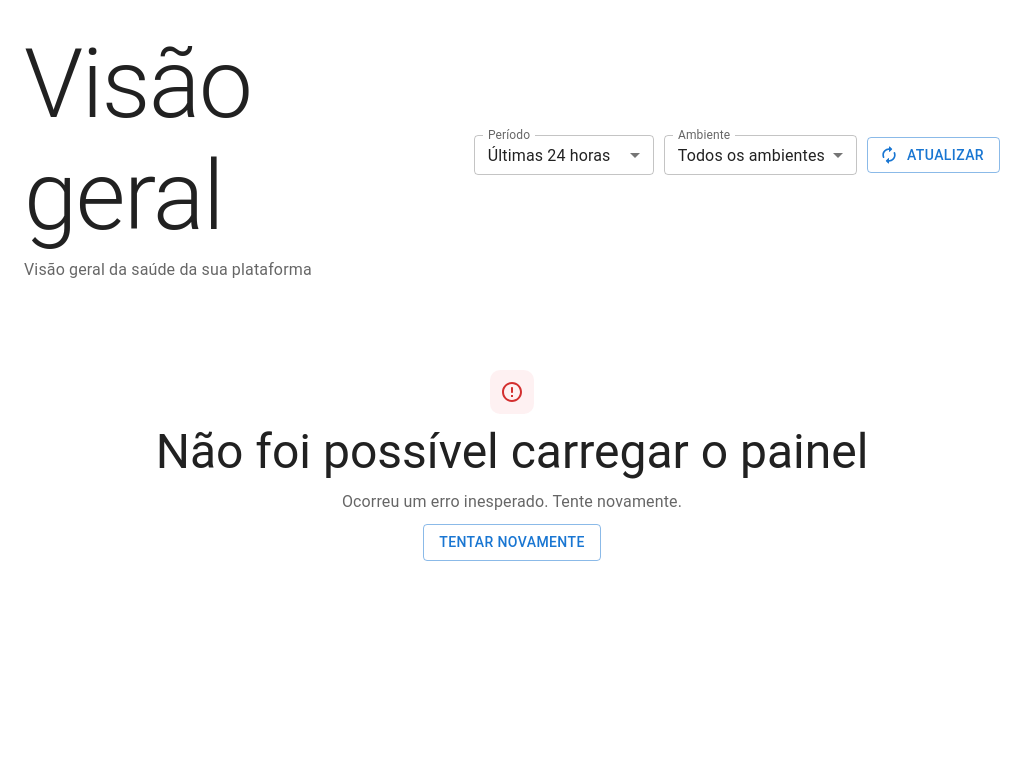
Visão geral operacional › encerra o carregamento com erro e permite tentar novamente
Expected: the heading "Não foi possível carregar o painel" is shown, [156, 424, 868, 480]
Click the button "Tentar novamente" at (512, 542), box [423, 524, 601, 561]
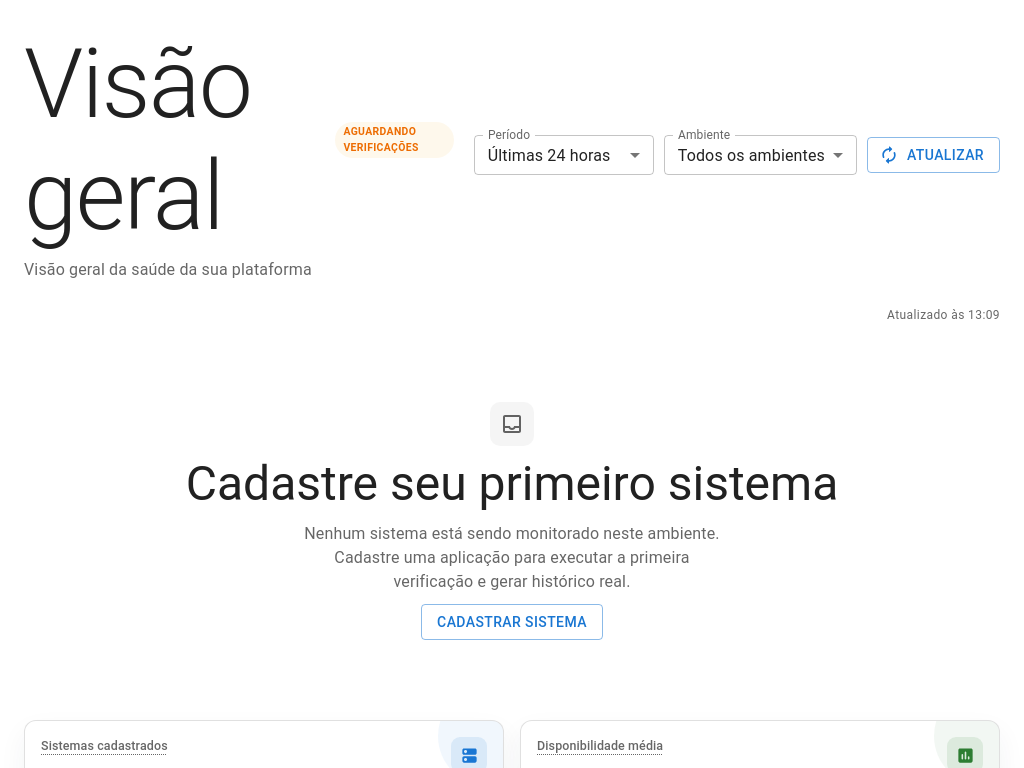
Expected: the heading "Cadastre seu primeiro sistema" is shown, [186, 456, 838, 512]
